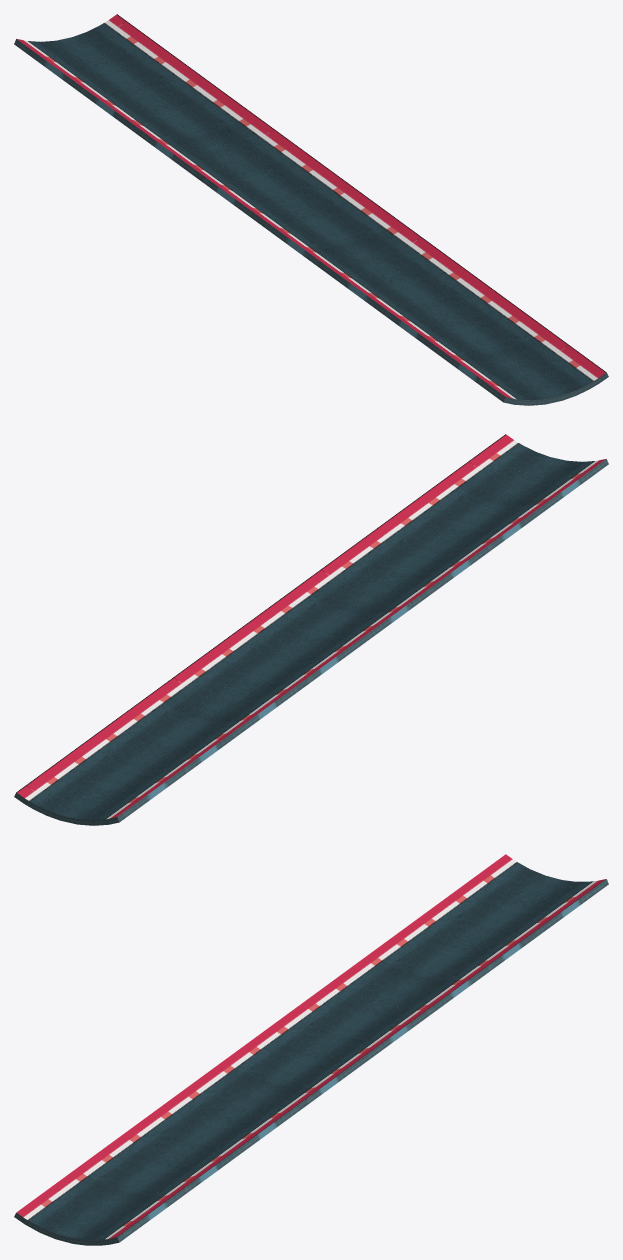
The model's file is INNERCURVED RAMP.FBX.
The picture shows the model from 3 angles, top to bottom: view 1: azimuth 30°, elevation 25°; view 2: azimuth 150°, elevation 25°; view 3: azimuth 330°, elevation 25°; orthographic projection.
Visible parts, largest first — view 1: Box035; view 2: Box035; view 3: Box035.
Part boxes in pixels (x1=…): Box035: x1=14, y1=14, x2=608, y2=405; Box035: x1=14, y1=434, x2=608, y2=825; Box035: x1=14, y1=854, x2=608, y2=1245.
Size of the model in its own units: 159 by 25.24 by 1276.
1 material, 1 textured.
